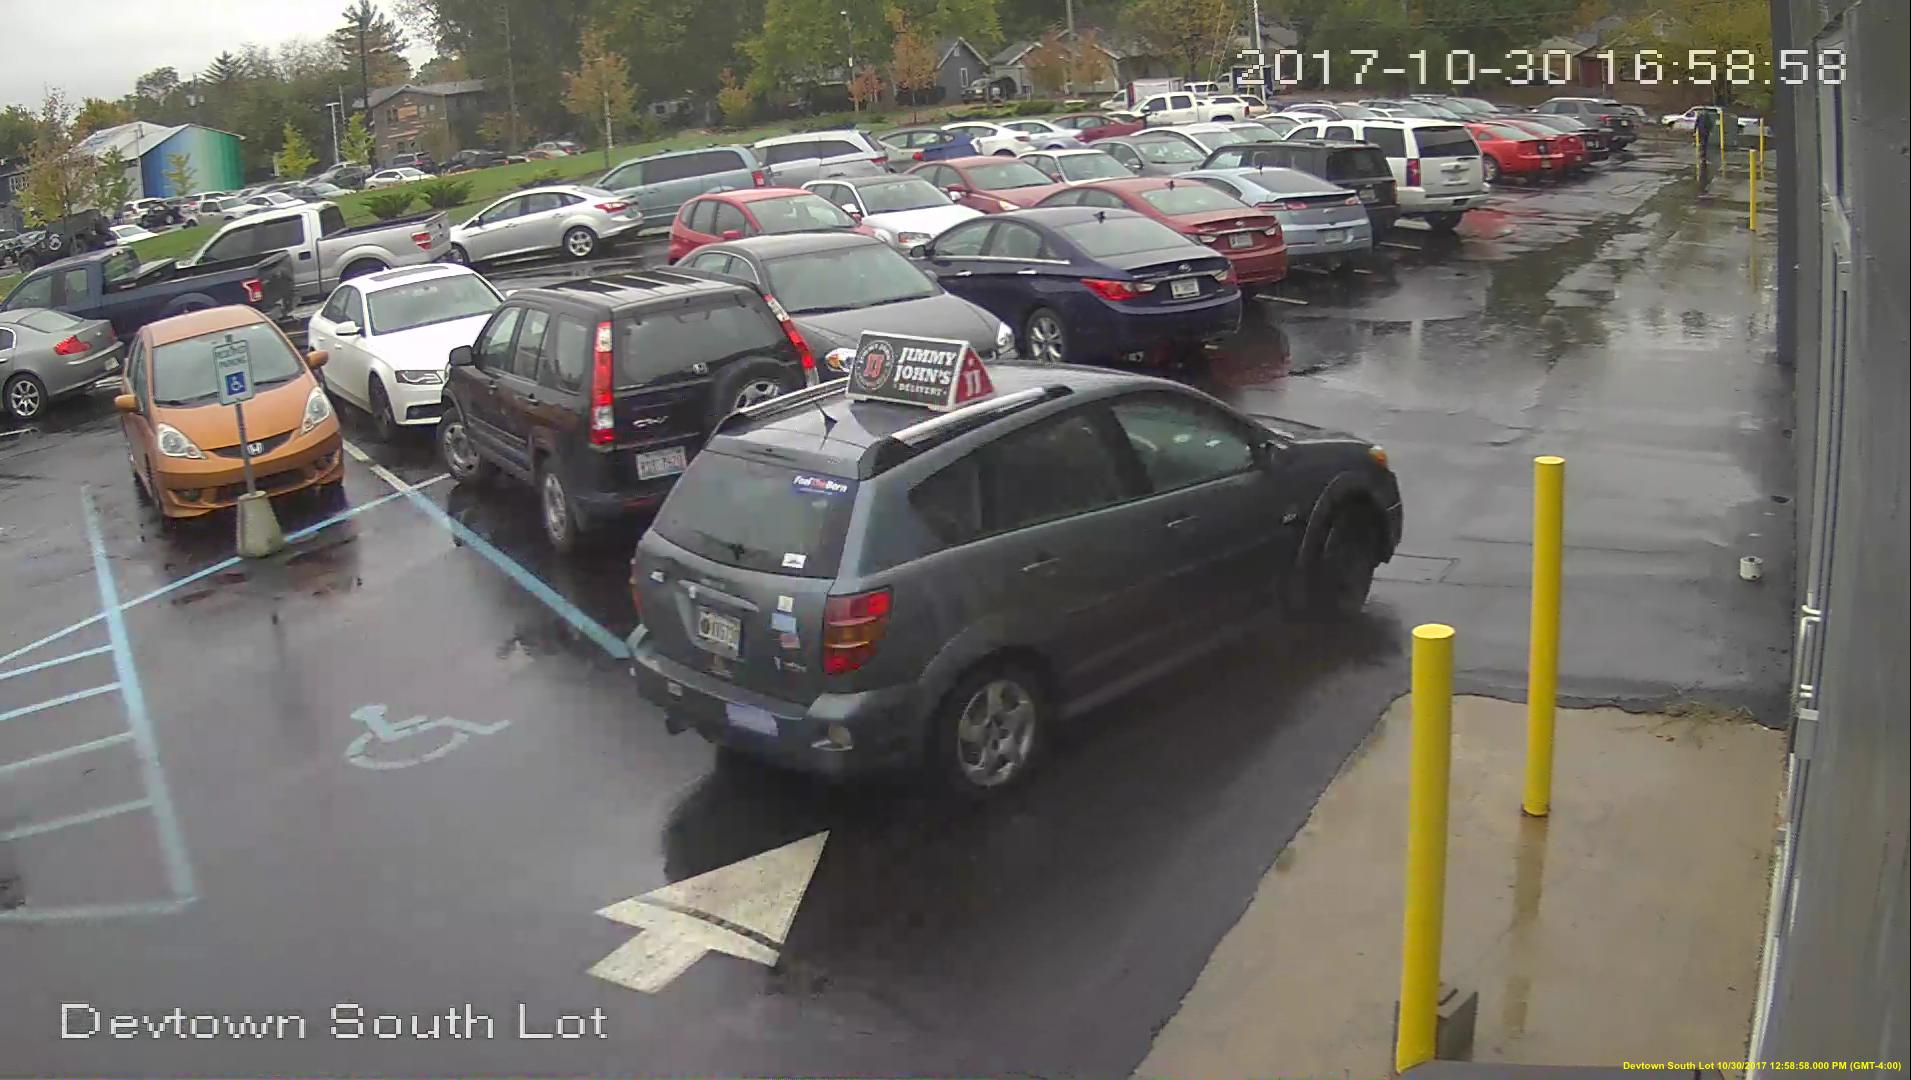jimmy_johns: (844, 325, 995, 412)
